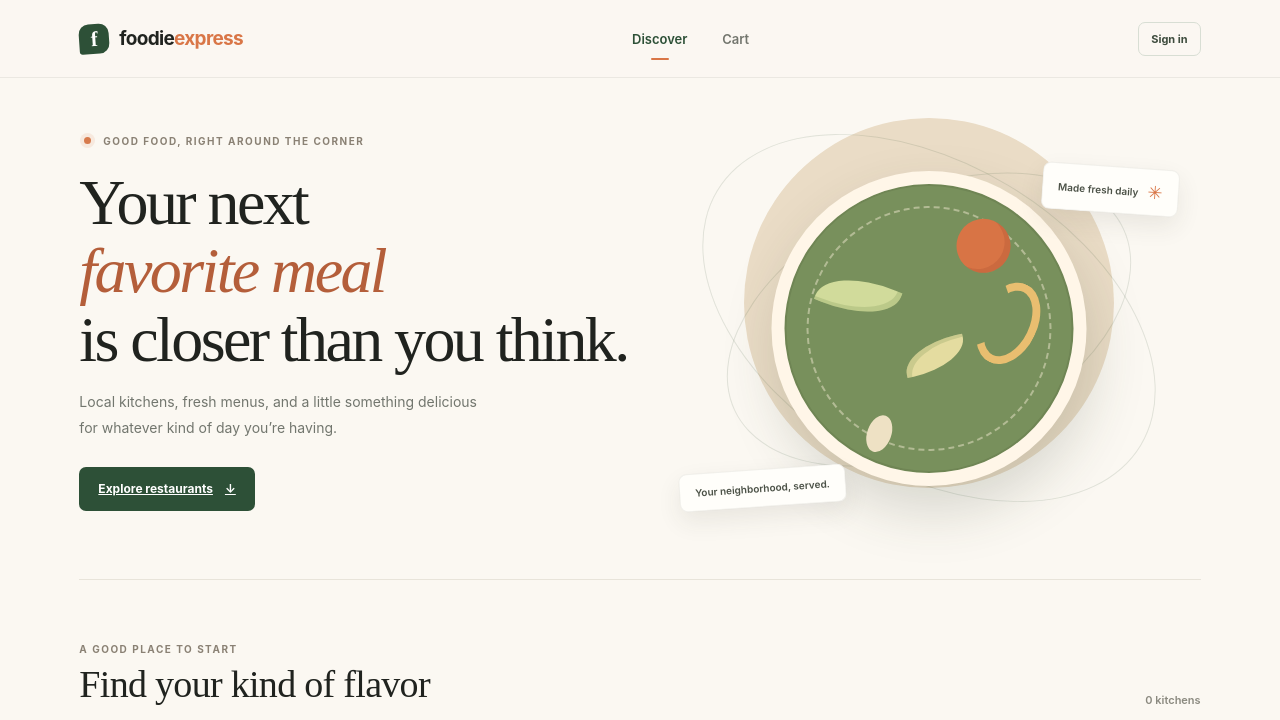
Scenario: FoodieExpress UI › opens registration from sign-in and explains customer-only public signup
Click the button "Sign in" at (1169, 38), box [1138,22,1201,56]
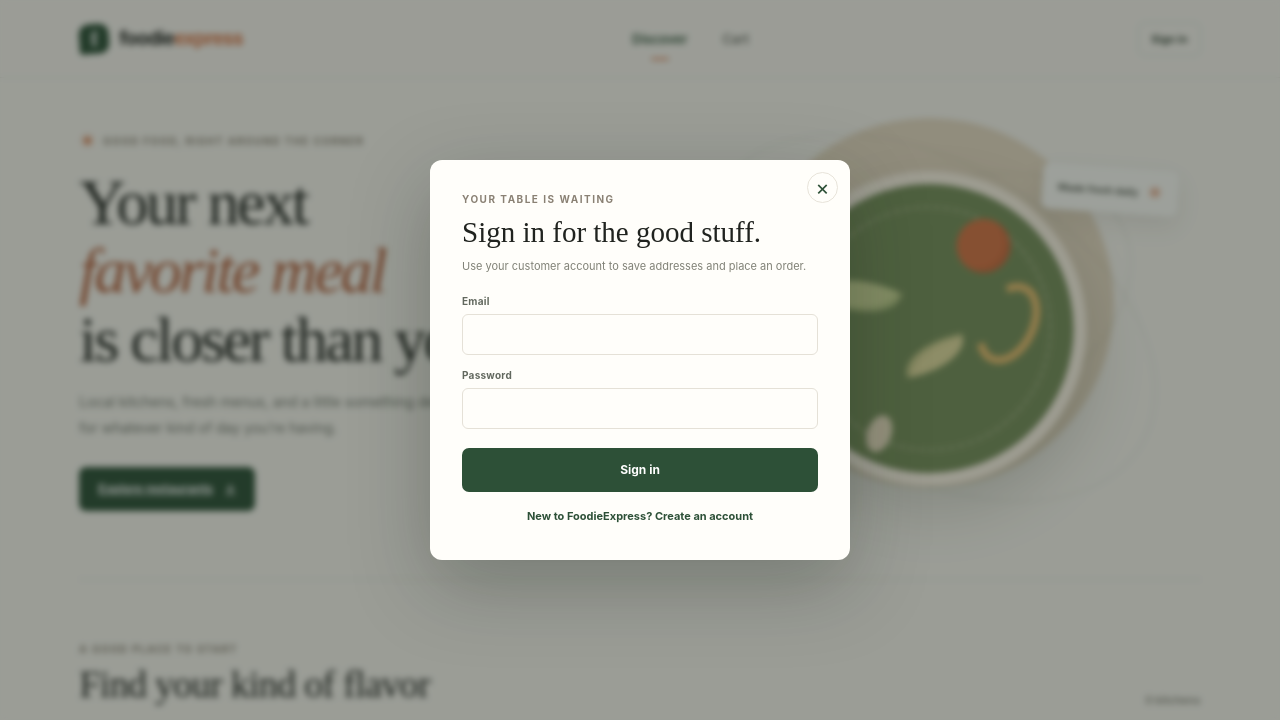
Check: the heading "Sign in for the good stuff." is shown, box [462,216,761,248]
Click the button "New to FoodieExpress? Create an account" at (640, 516), box [462,504,818,528]
(page scrolled)
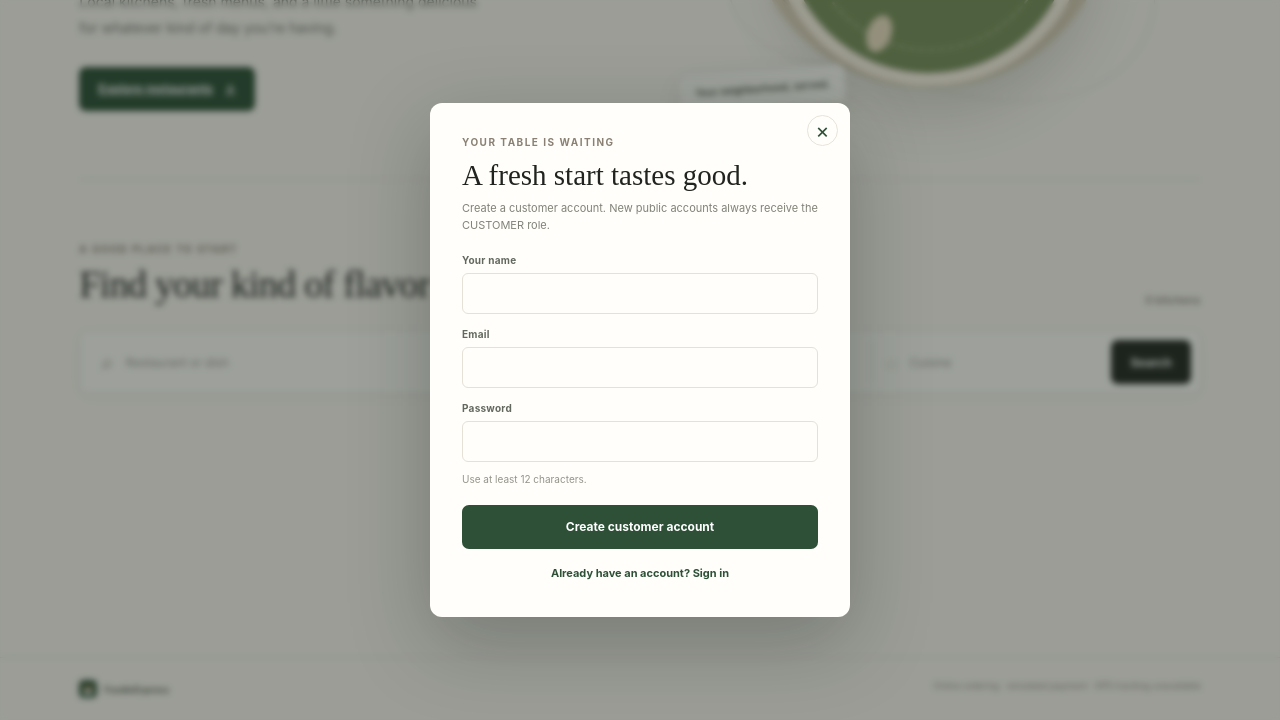
Check: the button named "Close sign in" is shown, box [807,115,838,146]
Check: the heading "A fresh start tastes good." is shown, box [462,159,748,191]
Check: the text "always receive the CUSTOMER role" is shown, box [462,201,818,232]
